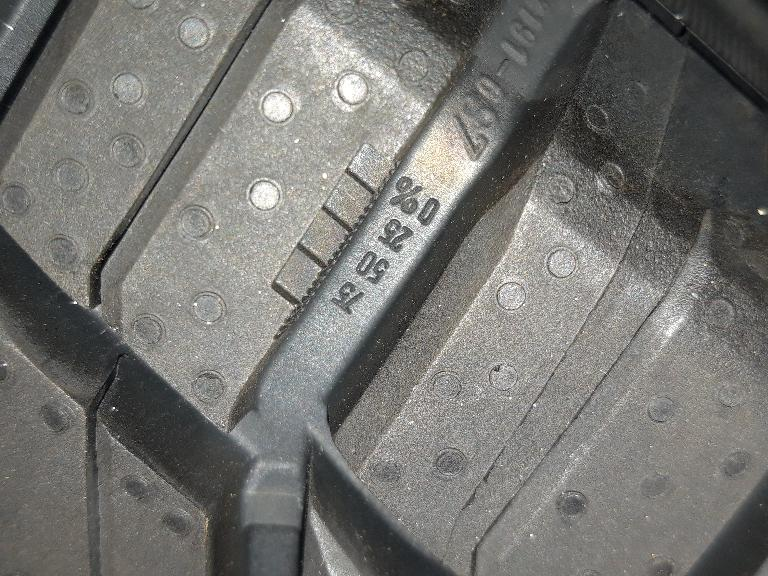temoin:100: (264, 137, 410, 349)
